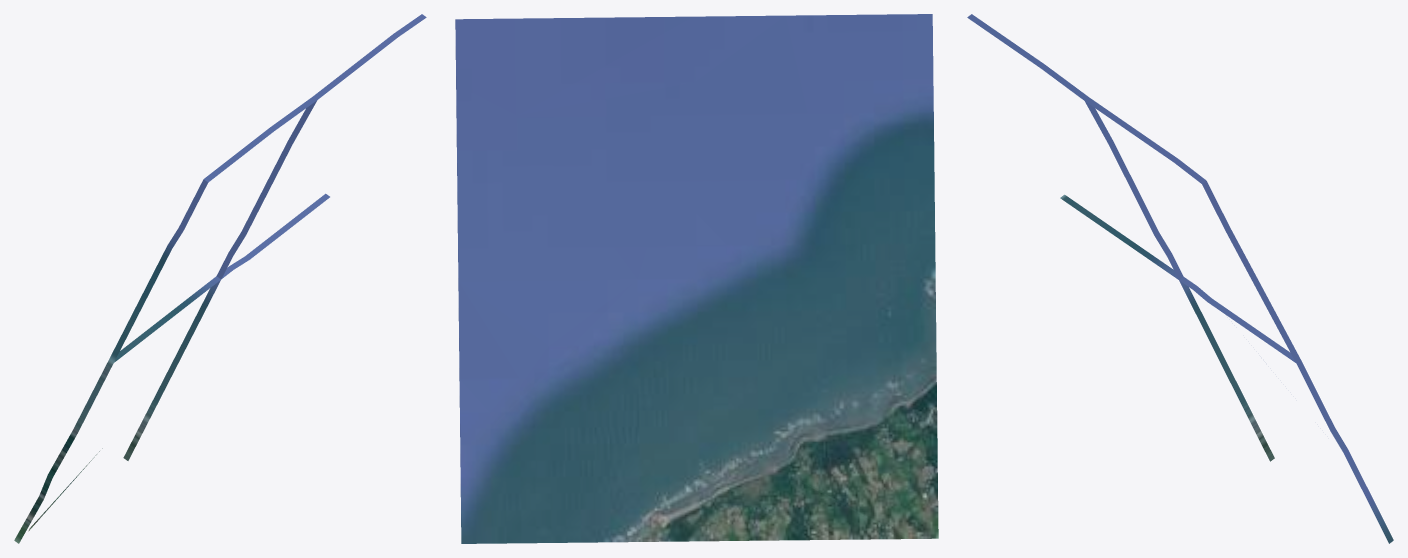
3 renders of one model, left to right at view 1: azimuth 30°, elevation 25°; view 2: azimuth 150°, elevation 25°; view 3: azimuth 270°, elevation 25°, orthographic. The views are drawn at different scales.
Size of the model in its own units: 4935 by 4426 by 4154.
1 material, 1 textured.
